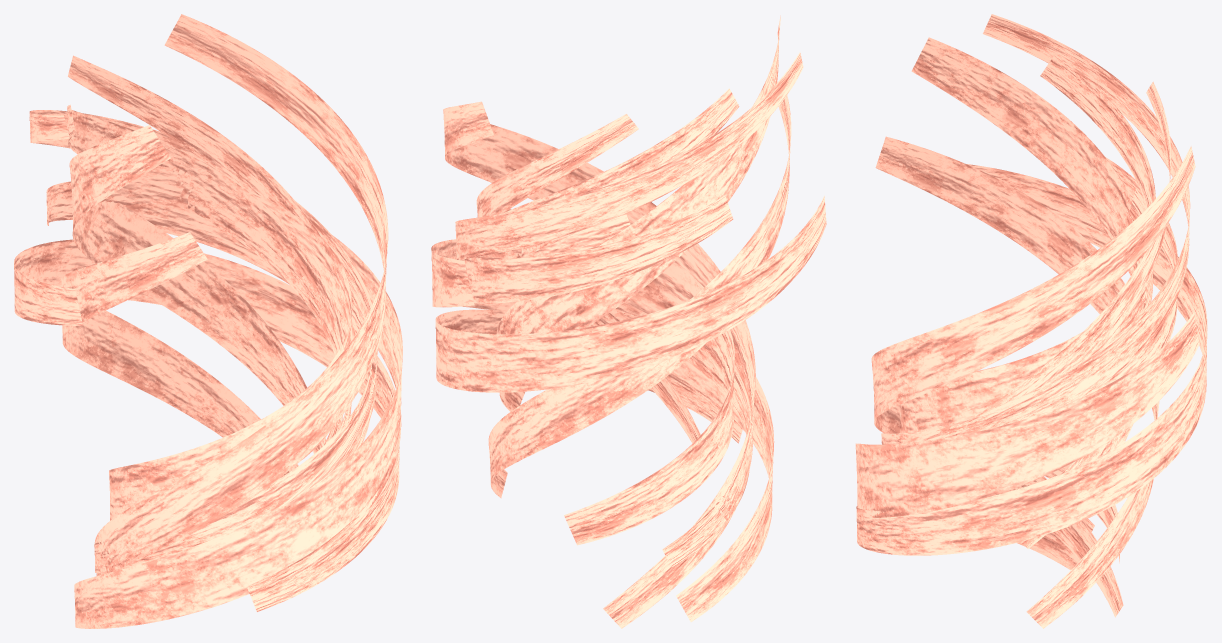
The model's file is devil_wisps_2.glb.
The picture shows the model from 3 angles, left to right: view 1: azimuth 30°, elevation 25°; view 2: azimuth 150°, elevation 25°; view 3: azimuth 270°, elevation 25°; orthographic projection. The views are drawn at different scales.
Visible parts, largest first — view 1: devil_wisps_2; view 2: devil_wisps_2; view 3: devil_wisps_2.
Part boxes in pixels (left/top/right/bottom): devil_wisps_2: left=14, top=14, right=402, bottom=628; devil_wisps_2: left=431, top=15, right=826, bottom=628; devil_wisps_2: left=855, top=14, right=1207, bottom=628.
Size of the model in its own units: 13.31 by 21.12 by 12.25.
Materials: 1 (1 with a texture image).
